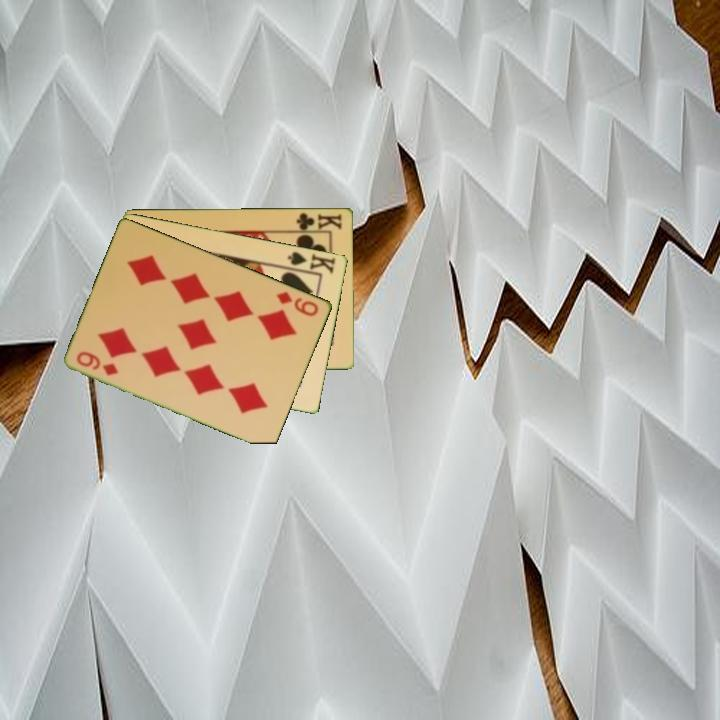9d: (273, 287, 322, 319), (73, 348, 121, 379)
Kc: (291, 209, 345, 234)
Ks: (284, 248, 339, 276)
